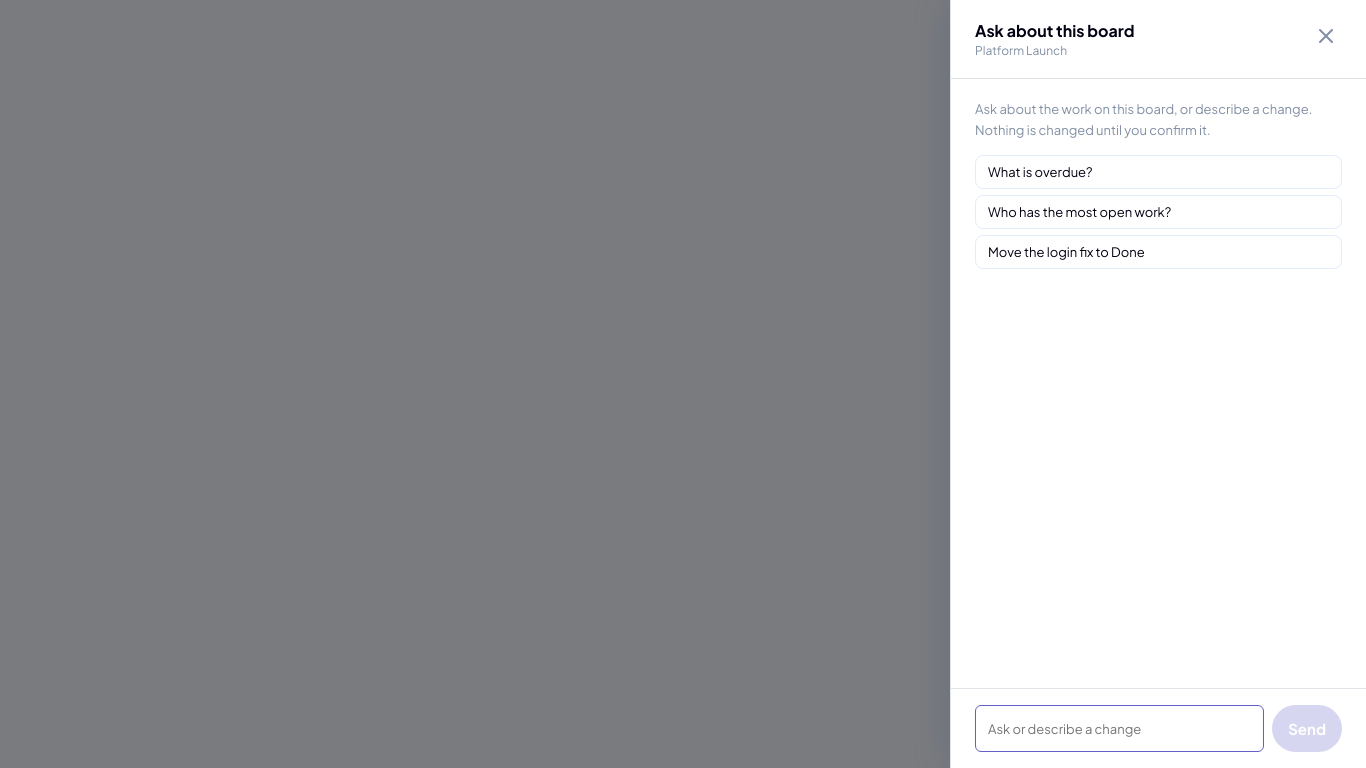
it: ChatPanel › shows why a proposed change cannot be made, with no button
Type "move the thing" into the field named "Message" at (1120, 728), box left=975, top=705, right=1264, bottom=752
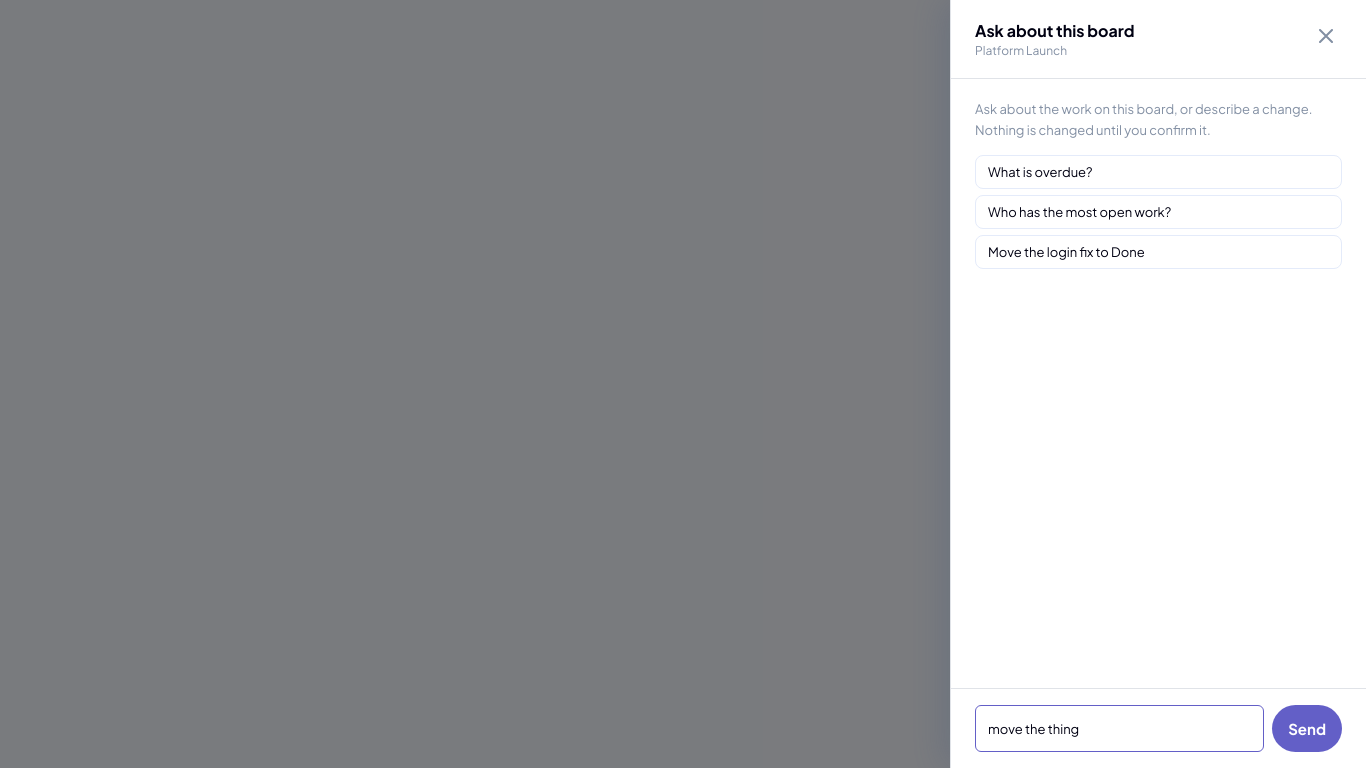
Click the button "Send" at (1307, 728), box left=1272, top=705, right=1342, bottom=752
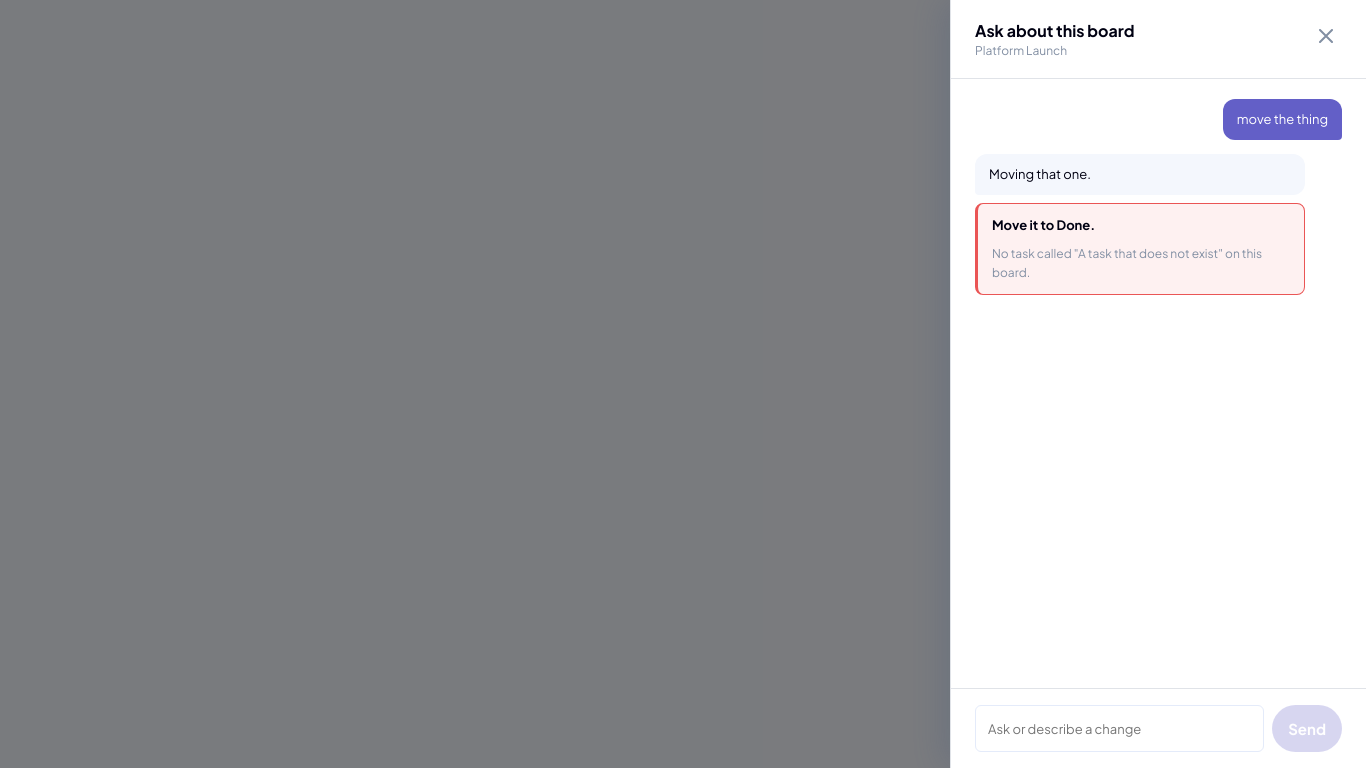
Now the text "No task called \"A task that does not exist\" on this board." is shown, box left=992, top=245, right=1290, bottom=282
